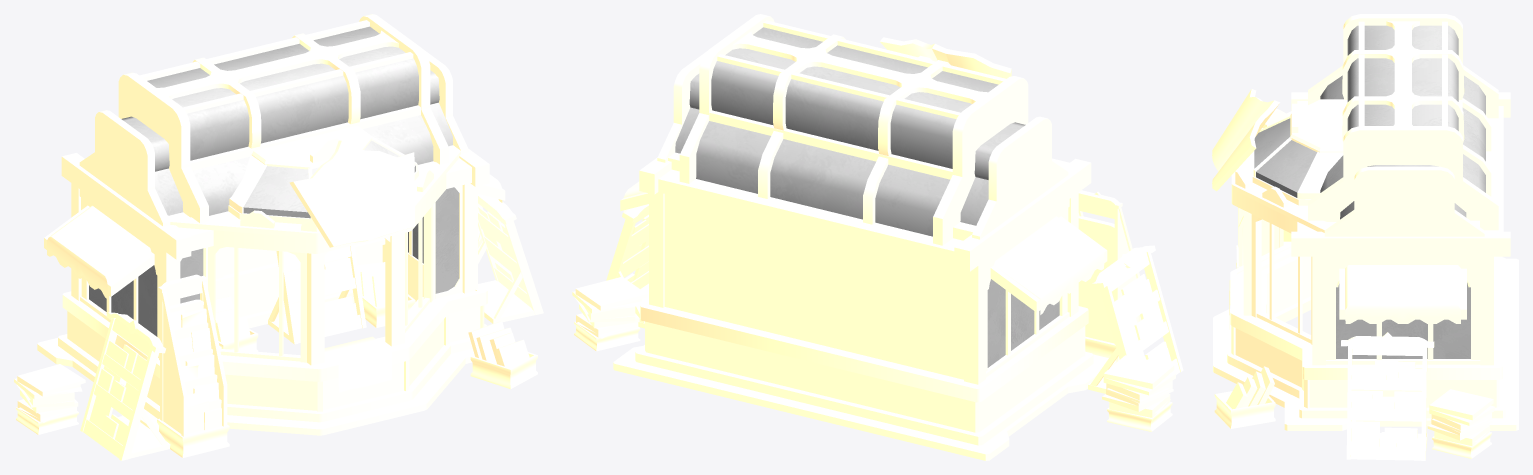
Rendered from Homeworld_Exterior_Fd_Build_BookStore_01_Lod0.fbx.
3 renders of one model, left to right at view 1: azimuth 30°, elevation 25°; view 2: azimuth 150°, elevation 25°; view 3: azimuth 270°, elevation 25°, orthographic. The views are drawn at different scales.
Visible parts, largest first — view 1: Homeworld_Exterior_Fd_Build_BookStore_01_Lod0; view 2: Homeworld_Exterior_Fd_Build_BookStore_01_Lod0; view 3: Homeworld_Exterior_Fd_Build_BookStore_01_Lod0.
Part boxes in pixels (bbox=[...]): Homeworld_Exterior_Fd_Build_BookStore_01_Lod0: bbox=[14, 14, 543, 460]; Homeworld_Exterior_Fd_Build_BookStore_01_Lod0: bbox=[572, 14, 1183, 460]; Homeworld_Exterior_Fd_Build_BookStore_01_Lod0: bbox=[1212, 14, 1518, 460].
Size of what is drawn, in the model's own units: 9.32 by 5.03 by 5.06.
